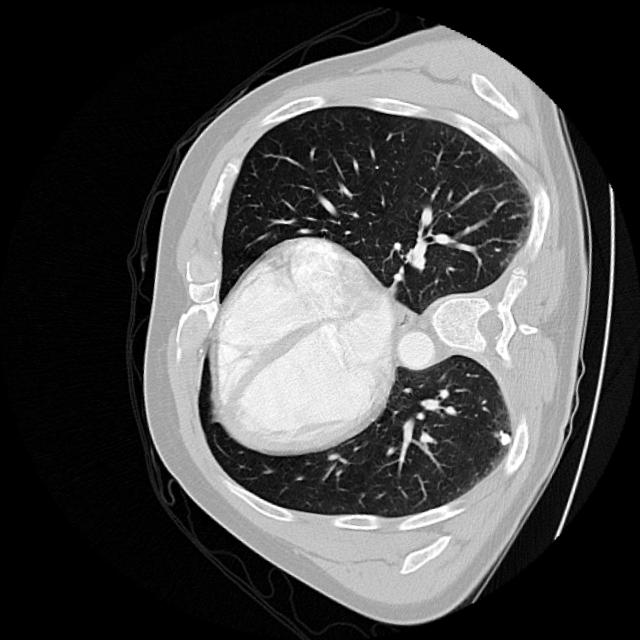nodule: (488, 420, 520, 452)
